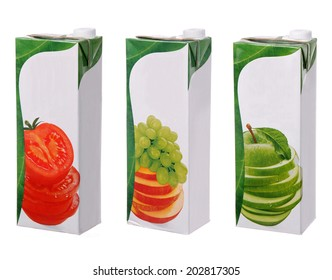carton: (115, 16, 217, 239), (6, 16, 108, 238), (225, 17, 323, 240)
